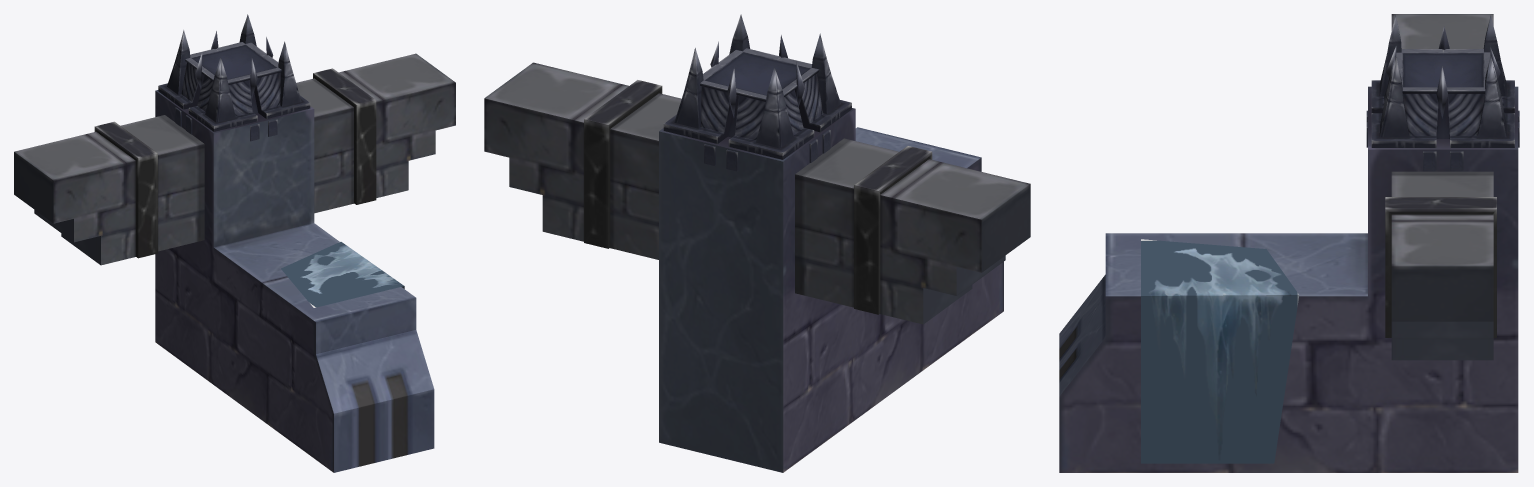
File: Beidaying_dahuopen.FBX
The picture shows the model from 3 angles, left to right: view 1: azimuth 30°, elevation 25°; view 2: azimuth 150°, elevation 25°; view 3: azimuth 270°, elevation 25°; orthographic projection. The views are drawn at different scales.
Visible parts, largest first — view 1: Beidaying_dahuopen01, Beidaying_dahuopen02; view 2: Beidaying_dahuopen01; view 3: Beidaying_dahuopen01, Beidaying_dahuopen02.
Boxes of the visible parts, box(x1,y1,x2,y2) form: Beidaying_dahuopen01: box(14, 14, 455, 472); Beidaying_dahuopen02: box(281, 241, 404, 307); Beidaying_dahuopen01: box(484, 14, 1030, 472); Beidaying_dahuopen01: box(1059, 14, 1519, 472); Beidaying_dahuopen02: box(1141, 239, 1299, 463).
Bounding box in the file's own units: 133 × 103 × 100.
